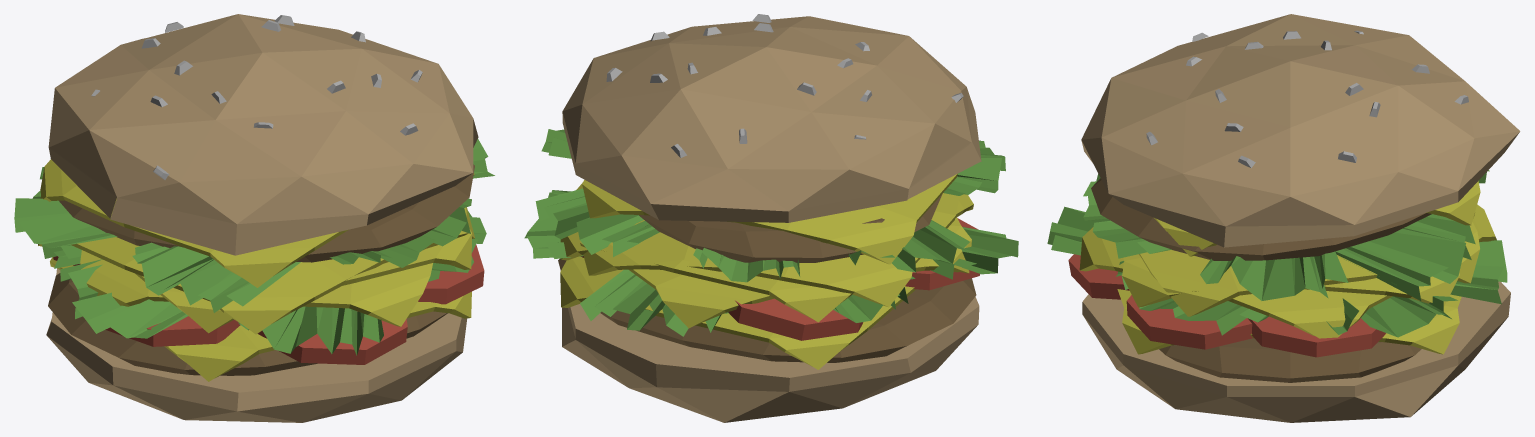
File: cheese_Burger.gltf
3 renders of one model, left to right at view 1: azimuth 30°, elevation 25°; view 2: azimuth 150°, elevation 25°; view 3: azimuth 270°, elevation 25°, orthographic. The views are drawn at different scales.
Visible parts, largest first — view 1: Burger.110, Burger, Burger.001, Burger.003, Burger.005, Burger.107, Burger.111, Burger.004, Burger.112, Burger.092, Burger.091, Burger.093 (+43 smaller); view 2: Burger.110, Burger.004, Burger, Burger.003, Burger.112, Burger.001, Burger.111, Burger.109, Burger.097, Burger.107, Burger.005, Burger.108 (+46 smaller); view 3: Burger.110, Burger, Burger.005, Burger.004, Burger.107, Burger.001, Burger.111, Burger.003, Burger.100, Burger.088, Burger.087, Burger.102 (+45 smaller).
Boxes of the visible parts, x1,y1,x2,y2 form: Burger.110: (14,139,494,312); Burger: (42,211,486,355); Burger.001: (51,268,461,392); Burger.003: (38,207,474,334); Burger.005: (53,244,484,364); Burger.107: (80,250,432,326); Burger.111: (59,164,474,262); Burger.004: (48,273,447,375); Burger.112: (40,159,474,287); Burger.092: (216,53,345,119); Burger.091: (216,111,345,176); Burger.093: (89,120,215,182); Burger.110: (535,129,1005,282); Burger.004: (558,258,976,362); Burger: (524,190,1018,336); Burger.003: (580,193,959,307); Burger.112: (582,173,957,264); Burger.001: (570,297,979,377); Burger.111: (639,194,942,262); Burger.109: (560,256,915,369); Burger.097: (681,89,810,168); Burger.107: (576,182,971,328); Burger.005: (580,218,980,340); Burger.108: (560,194,973,322); Burger.110: (1083,170,1489,300); Burger: (1047,206,1507,337); Burger.005: (1068,254,1385,357); Burger.004: (1159,338,1421,382); Burger.107: (1079,204,1496,338); Burger.001: (1082,281,1510,385); Burger.111: (1091,178,1431,260); Burger.003: (1139,222,1479,316); Burger.100: (1290,86,1398,171); Burger.088: (1182,100,1289,173); Burger.087: (1183,128,1290,196); Burger.102: (1290,128,1397,196).
Size of the model in its own units: 1.75 by 1.26 by 1.7.
